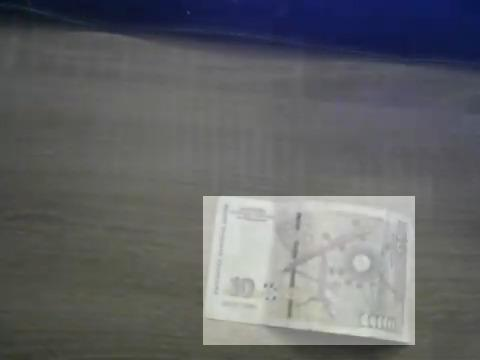10leva: (203, 196, 415, 345)
